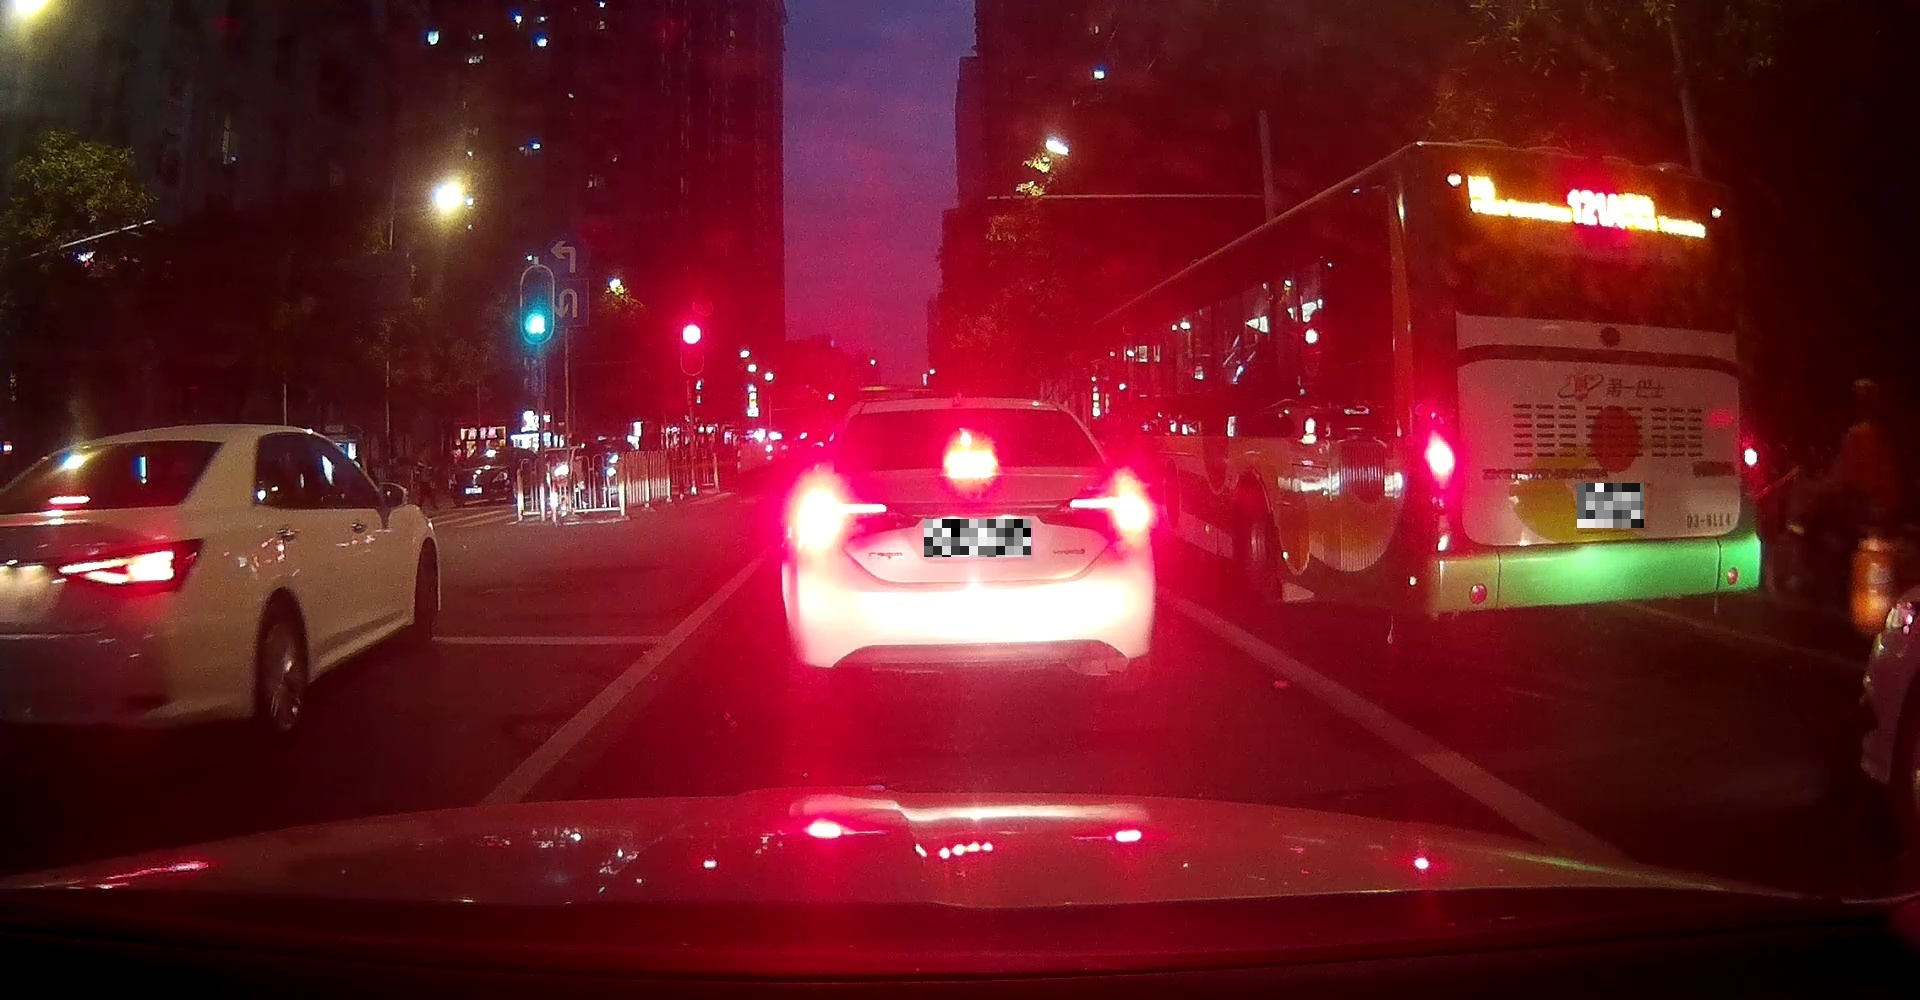L_light: (783, 468, 888, 560), (1413, 409, 1460, 506)
R_light: (1067, 467, 1154, 546), (1737, 423, 1763, 495)
T_light: (942, 434, 999, 490), (1570, 164, 1632, 187)
night-brake: (778, 398, 1157, 703)
night-no: (1413, 141, 1763, 645)
plate_1: (924, 519, 1031, 557)
plate_2: (1577, 484, 1644, 528)
